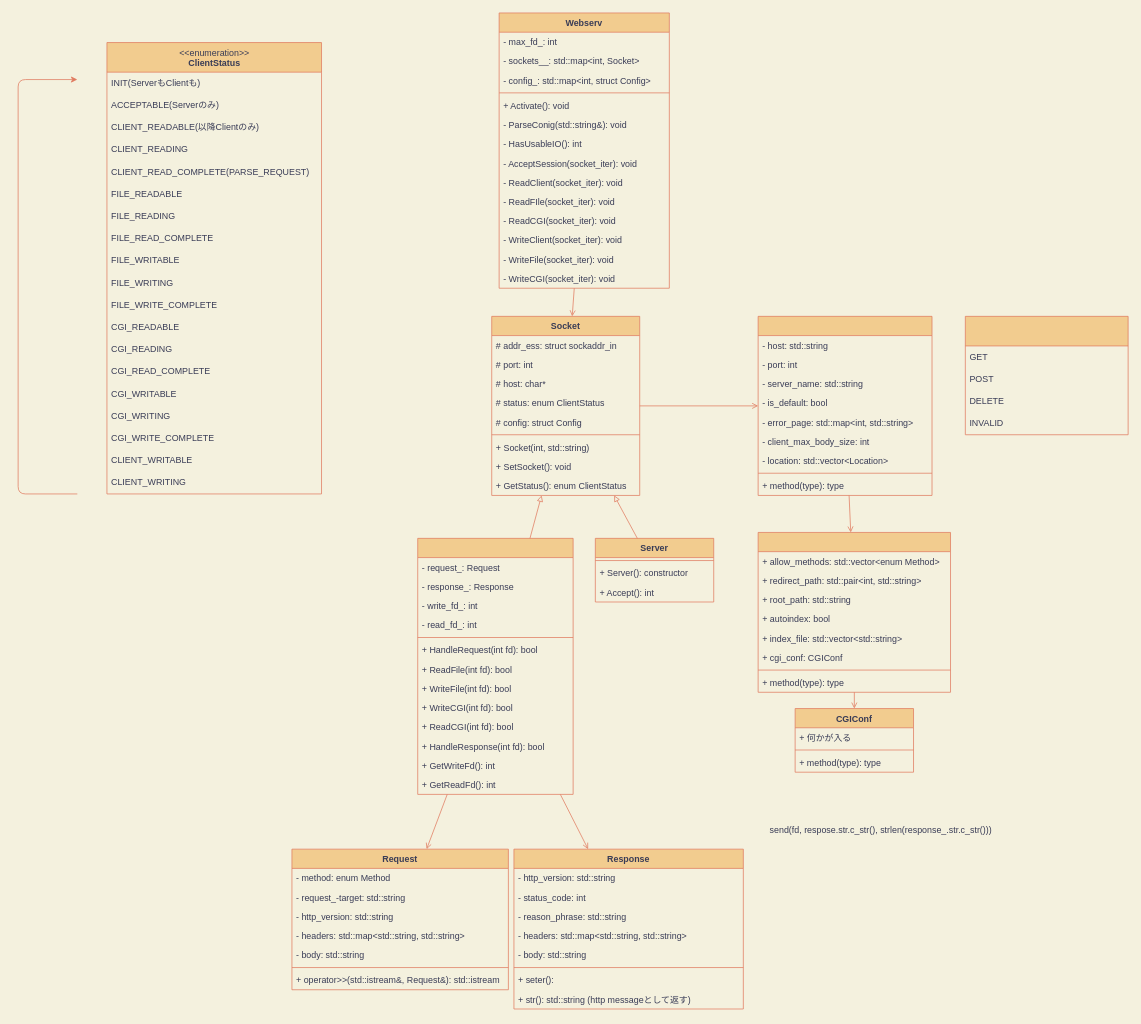
The diagram is 1141 pixels wide and 1024 high, and some of its shapes have lost their labels. Here are the shapes that lost their labels. From the top down, the box of each, then its label:
(965, 316, 1128, 435): <<enumeration>> Method
(757, 316, 932, 495): struct Config
(757, 532, 951, 692): Location
(417, 538, 573, 794): Client
